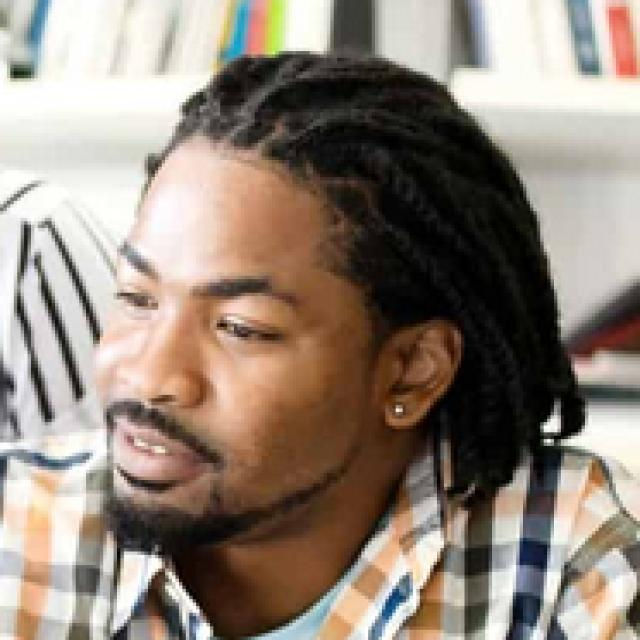Attentive: (95, 141, 377, 551)
